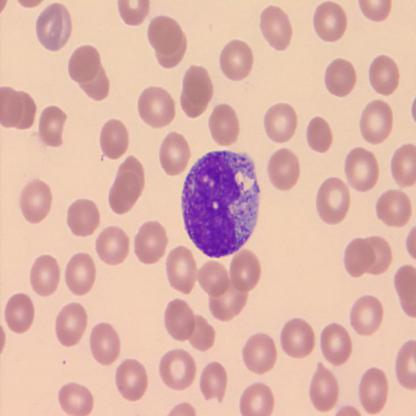Metamyelocyte: (179, 146, 262, 260)
